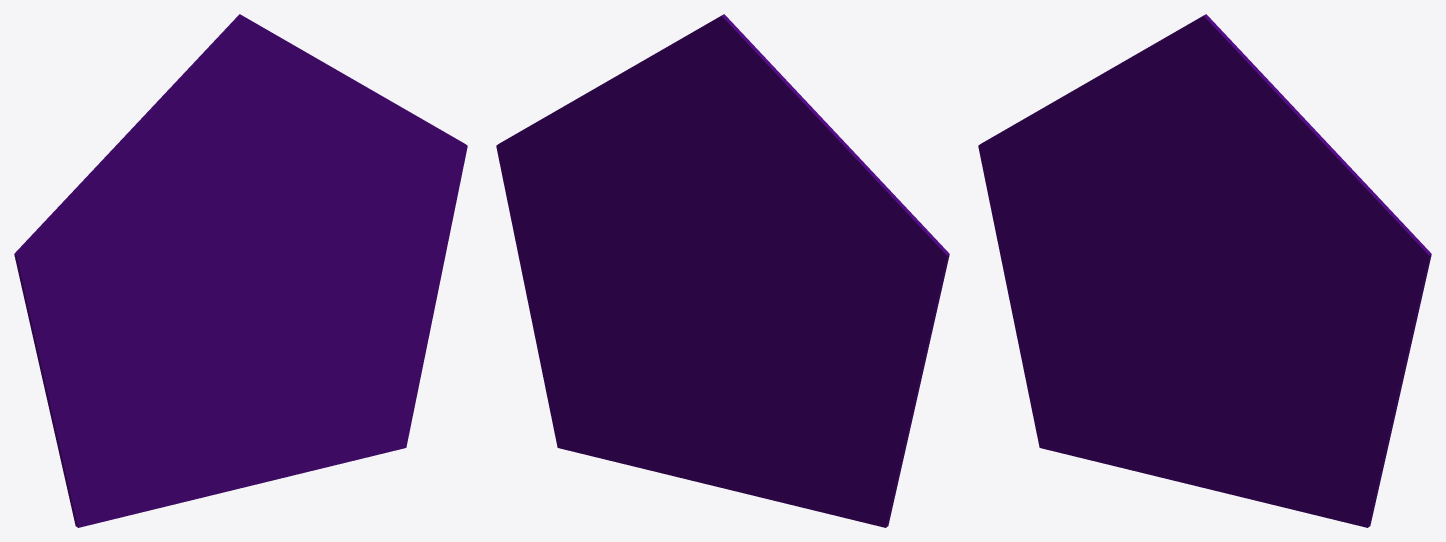
Rendered from Segi_Lima.fbx.
The picture shows the model from 3 angles, left to right: view 1: azimuth 30°, elevation 25°; view 2: azimuth 150°, elevation 25°; view 3: azimuth 330°, elevation 25°; orthographic projection.
Parts seen in each view (by area): view 1: Plane; view 2: Plane; view 3: Plane.
Boxes of the visible parts, bbox=[...] form: Plane: bbox=[14, 14, 467, 527]; Plane: bbox=[496, 14, 949, 527]; Plane: bbox=[978, 14, 1431, 527].
Size of the model in its own units: 200 by 200 by 2.
